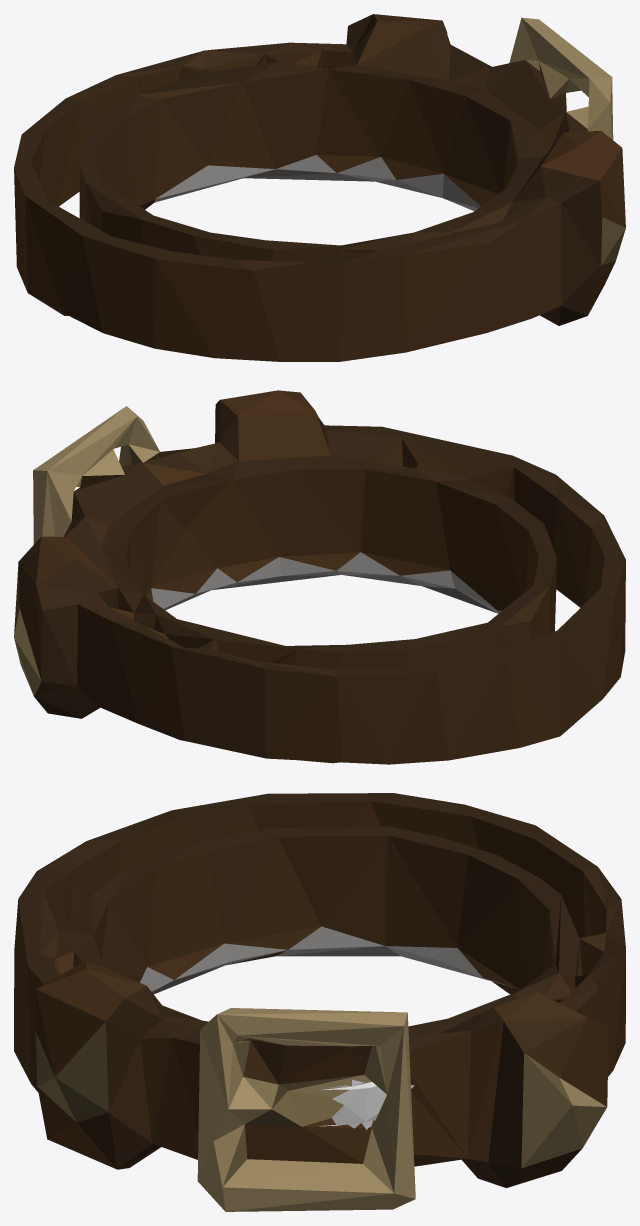
The model's file is aiwpn_belt.glb.
3 renders of one model, top to bottom at view 1: azimuth 30°, elevation 25°; view 2: azimuth 150°, elevation 25°; view 3: azimuth 270°, elevation 25°, orthographic. The views are drawn at different scales.
Parts seen in each view (by area): view 1: ca_aiwpn_belt; view 2: ca_aiwpn_belt; view 3: ca_aiwpn_belt.
Part boxes in pixels (<box>): ca_aiwpn_belt: <box>14,14,625,361</box>; ca_aiwpn_belt: <box>14,390,625,764</box>; ca_aiwpn_belt: <box>14,793,625,1211</box>.
Bounding box in the file's own units: 0.5473 × 0.1837 × 0.4911.
